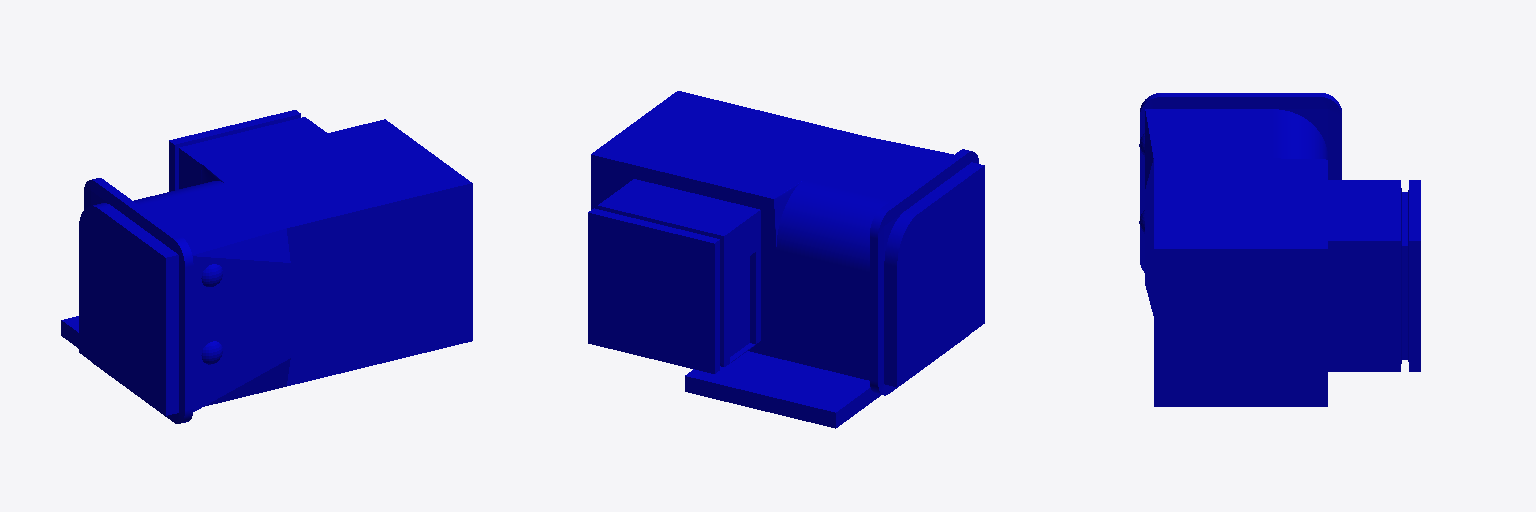
Rendered from simple_celle.obj.
The picture shows the model from 3 angles: view 1: azimuth 30°, elevation 25°; view 2: azimuth 150°, elevation 25°; view 3: azimuth 270°, elevation 25°; orthographic projection.
Parts seen in each view (by area): view 1: Cube_Cube.001; view 2: Cube_Cube.001; view 3: Cube_Cube.001.
Boxes of the visible parts, box(x1,y1,x2,y2) form: Cube_Cube.001: box(61, 110, 472, 423); Cube_Cube.001: box(588, 91, 984, 428); Cube_Cube.001: box(1139, 93, 1420, 406).
Bounding box in the file's own units: 4.06 × 2.38 × 3.22.